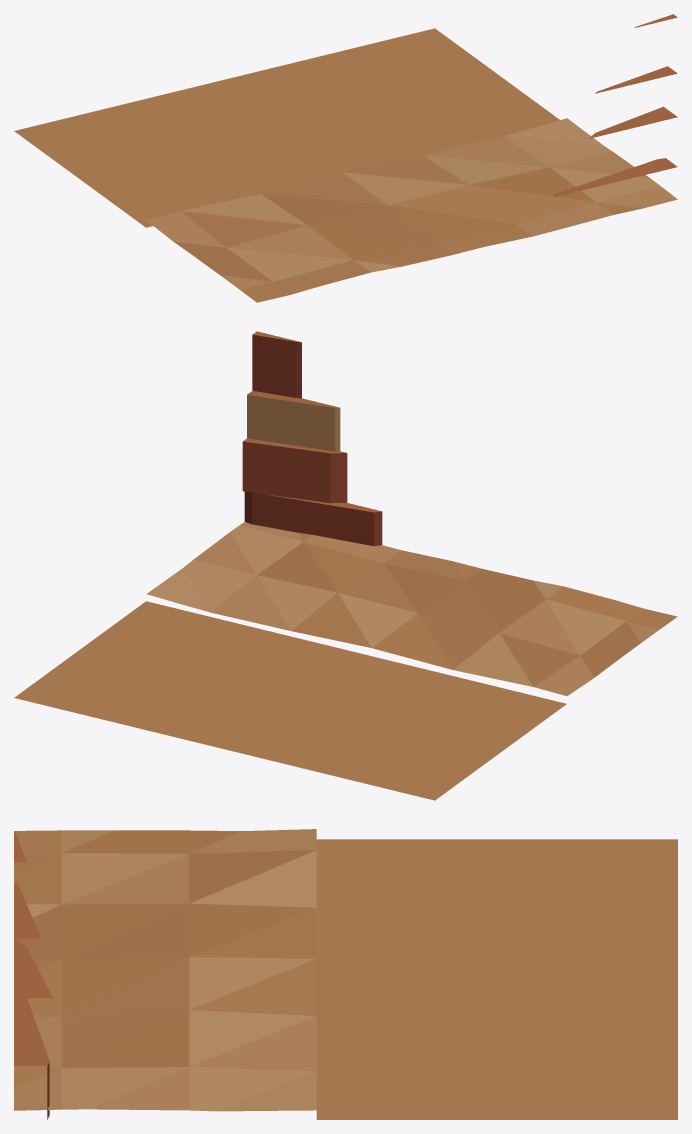
The picture shows the model from 3 angles, top to bottom: view 1: azimuth 30°, elevation 25°; view 2: azimuth 150°, elevation 25°; view 3: azimuth 270°, elevation 25°; orthographic projection. The views are drawn at different scales.
Parts seen in each view (by area): view 1: baked; view 2: baked; view 3: baked.
Boxes of the visible parts, x1,y1,x2,y2 form: baked: (14, 14, 677, 302); baked: (14, 331, 677, 800); baked: (14, 829, 677, 1119).
Bounding box in the file's own units: 62.5 × 26.77 × 62.5.
